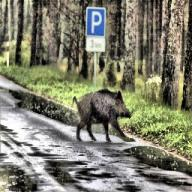boar: (72, 88, 130, 142)
